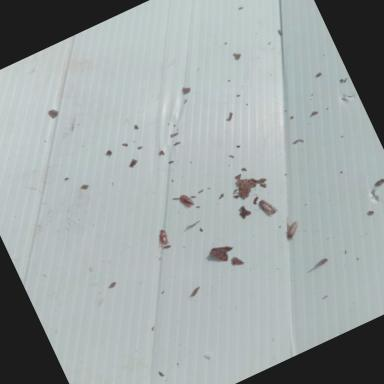pbw: (280, 218, 304, 240), (257, 195, 279, 219), (176, 190, 197, 211), (155, 228, 171, 246)
